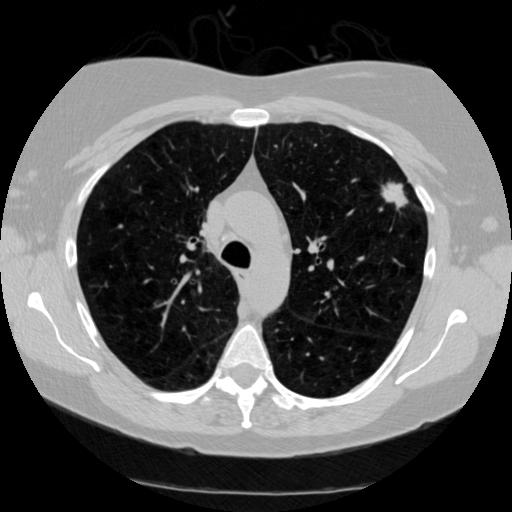nodule: (379, 179, 411, 211)
